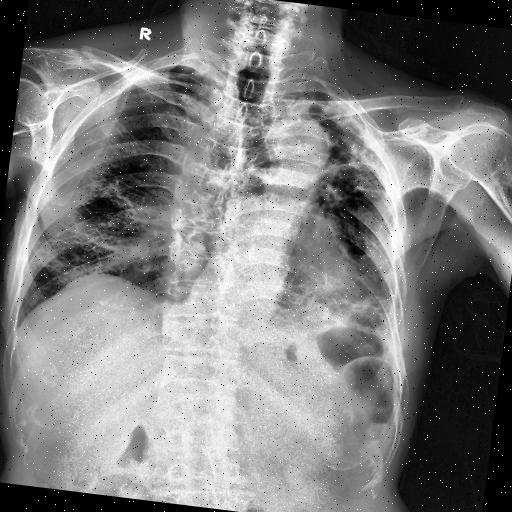0- Aortic enlargement: (255, 111, 336, 201), (262, 114, 334, 178), (258, 117, 334, 177)
10- Pleural effusion: (350, 286, 400, 344)
11- Pleural thickening: (350, 286, 400, 344)
13- Pulmonary fibrosis: (277, 82, 406, 226), (280, 94, 402, 212), (297, 96, 397, 216)
3- Cardiomegaly: (158, 254, 364, 348)
6- Infiltration: (277, 82, 406, 226), (323, 234, 412, 332)
9- Other lesion: (150, 100, 265, 364)
